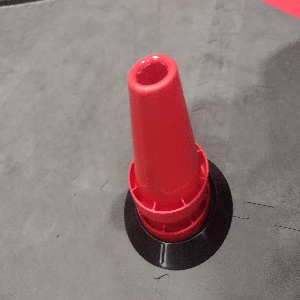Red_2: (110, 45, 213, 242)
